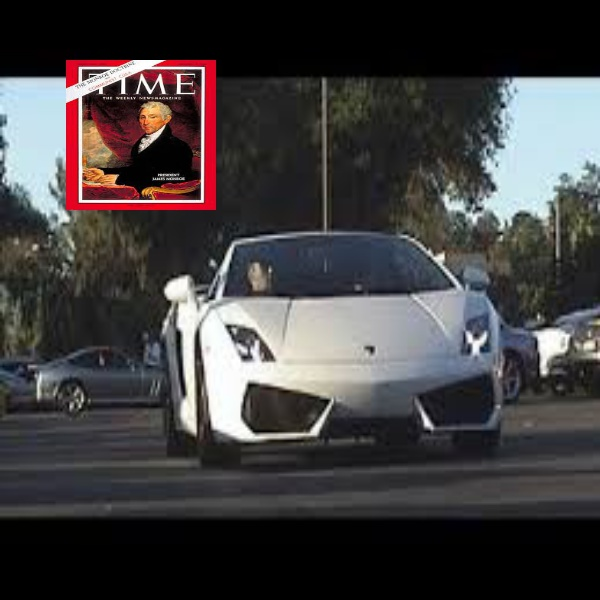time_cover: (60, 52, 220, 213)
